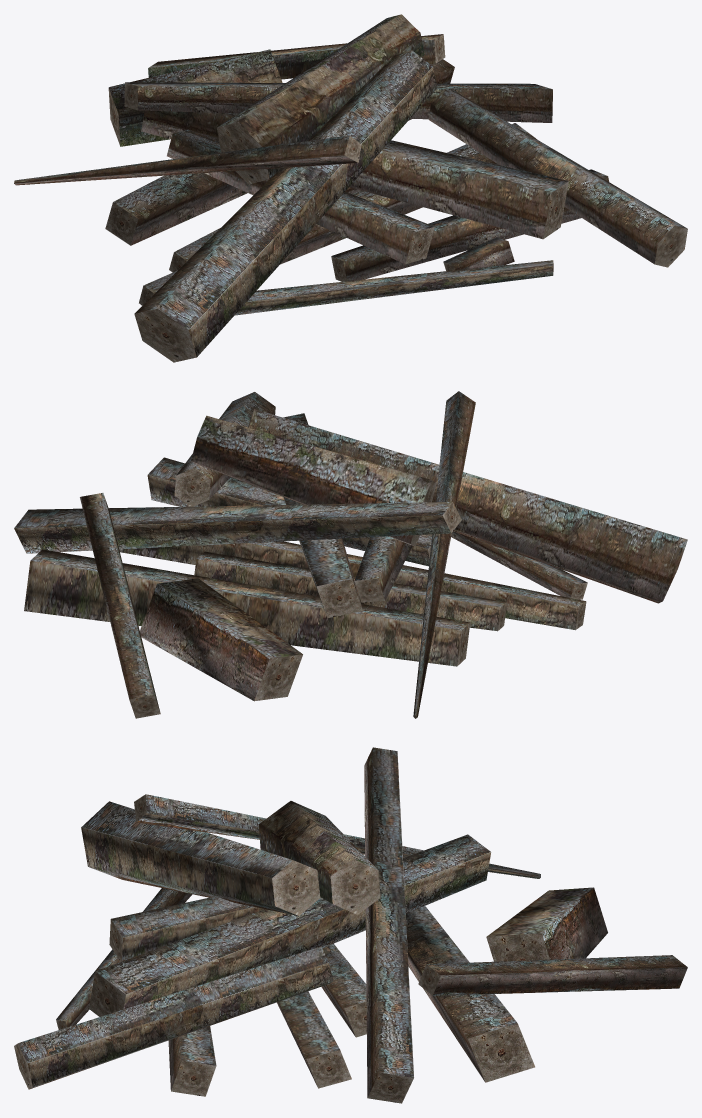
Rendered from Prop_Pve01Mudui01_lod2.glb.
The picture shows the model from 3 angles, top to bottom: view 1: azimuth 30°, elevation 25°; view 2: azimuth 150°, elevation 25°; view 3: azimuth 270°, elevation 25°; orthographic projection. The views are drawn at different scales.
Parts seen in each view (by area): view 1: pve01_mudui_01_lod2; view 2: pve01_mudui_01_lod2; view 3: pve01_mudui_01_lod2.
Boxes of the visible parts, box(x1,y1,x2,y2) form: pve01_mudui_01_lod2: box(14, 14, 687, 362); pve01_mudui_01_lod2: box(14, 391, 687, 718); pve01_mudui_01_lod2: box(14, 747, 687, 1103).
Bounding box in the file's own units: 1.84 × 0.6125 × 1.94.
1 material, 1 textured.
